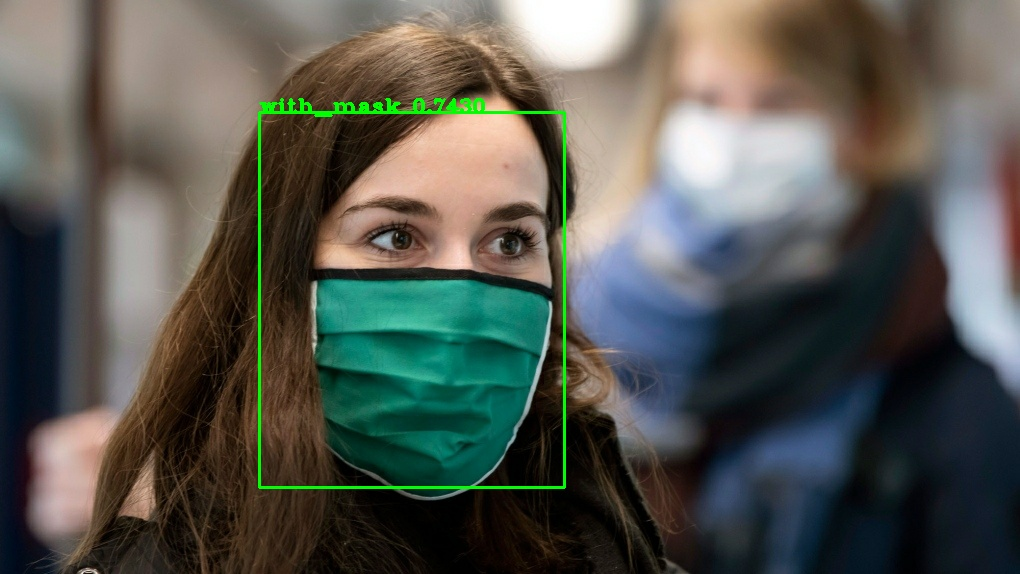with_mask: (221, 25, 622, 523), (634, 10, 935, 306)
